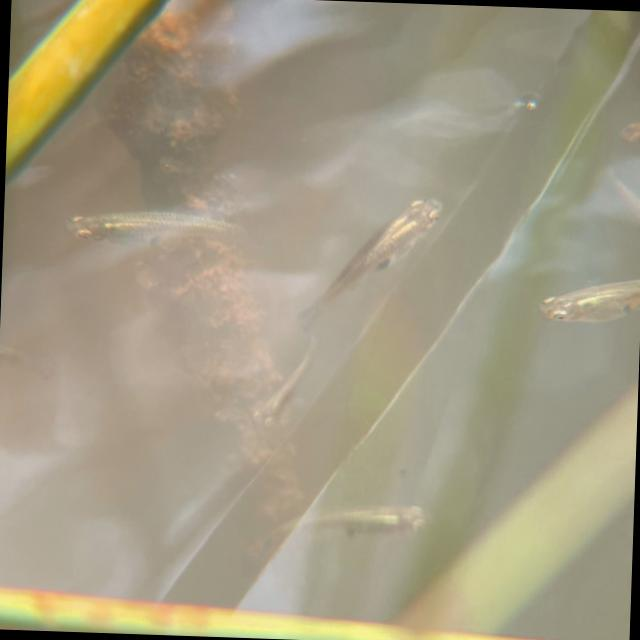Sivrisinek Baligi: (300, 160, 446, 328), (258, 466, 431, 562), (56, 180, 240, 254), (536, 258, 640, 332)
